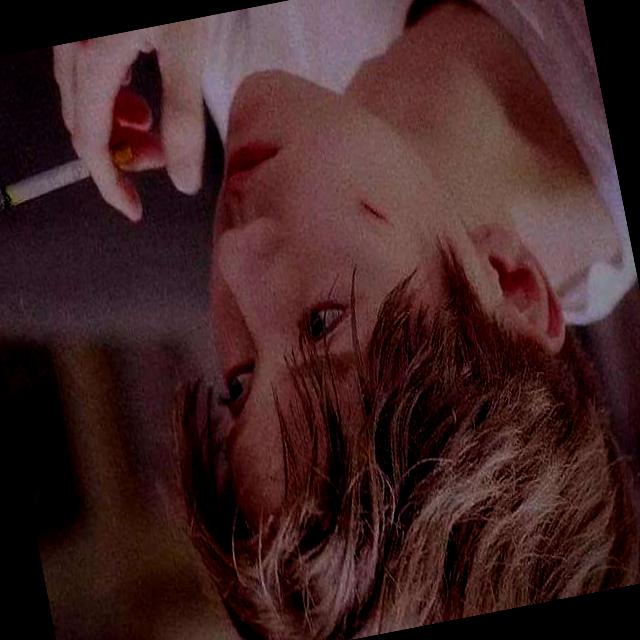smoke: (0, 125, 143, 224)
